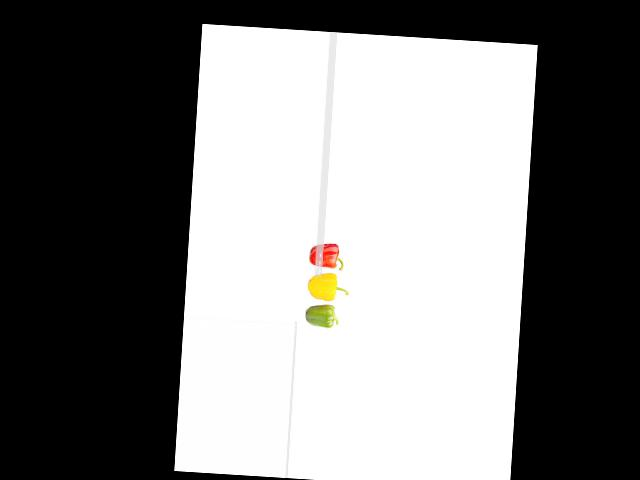bell_pepper: (302, 304, 344, 331)
